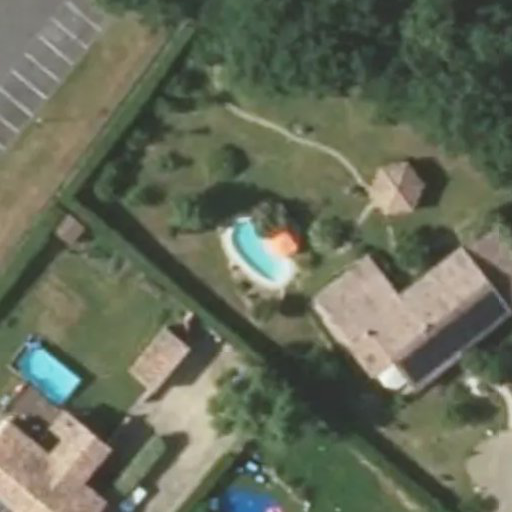pool: (220, 218, 287, 270)
